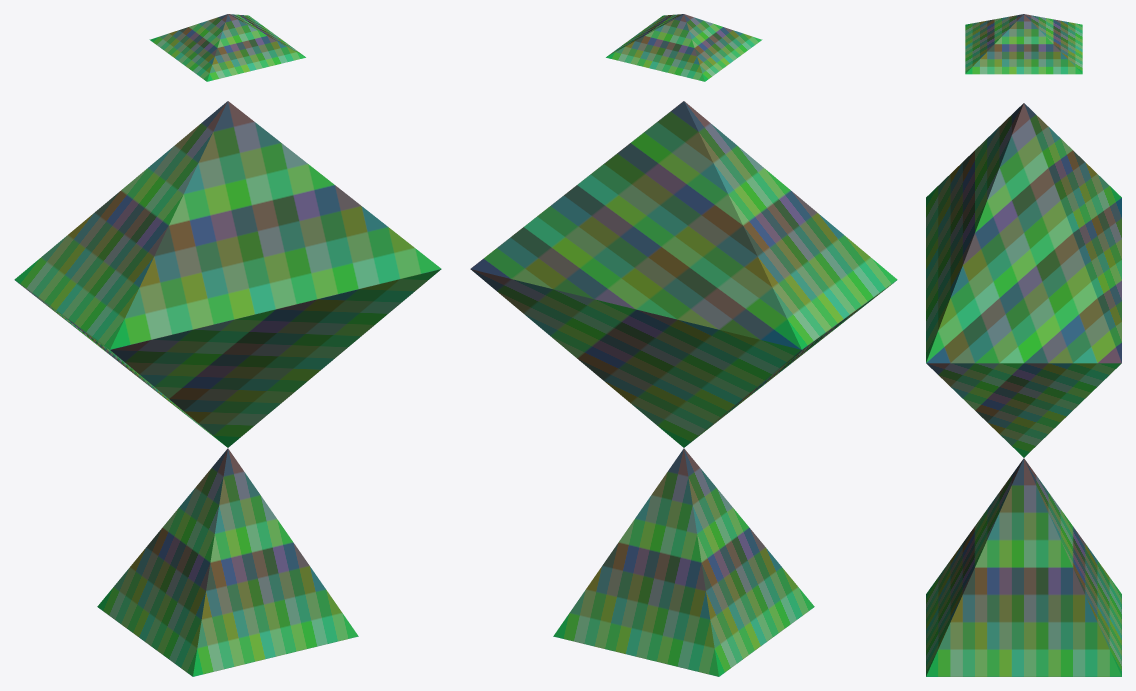
The model's file is enemy.obj.
3 renders of one model, left to right at view 1: azimuth 30°, elevation 25°; view 2: azimuth 150°, elevation 25°; view 3: azimuth 270°, elevation 25°, orthographic. The views are drawn at different scales.
Parts seen in each view (by area): view 1: AlienEnemy; view 2: AlienEnemy; view 3: AlienEnemy.
Boxes of the visible parts, box(x1,y1,x2,y2) form: AlienEnemy: box(14, 14, 441, 676); AlienEnemy: box(470, 14, 897, 676); AlienEnemy: box(926, 14, 1121, 676).
Bounding box in the file's own units: 2 × 3.5 × 1.
